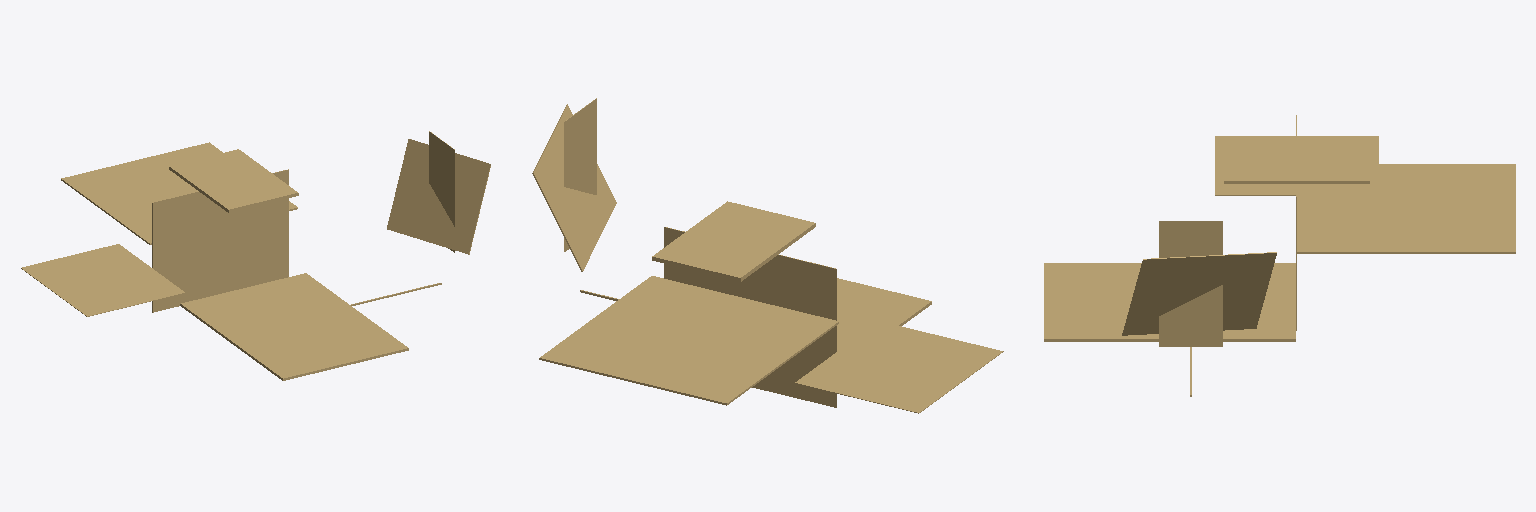
The robot description file, URDF, robot "evolved_design":
<?xml version="1.0" ?>
<robot name="evolved_design">
  <link name="base_link">
    <inertial>
      <mass value="0.001"/>
      <origin xyz="0 0 0" rpy="0 0 0"/>
      <inertia ixx="0.000001" ixy="0" ixz="0" iyy="0.000001" iyz="0" izz="0.000001"/>
    </inertial>
  </link>
  <link name="link_comp_0">
    <inertial>
      <mass value="2.442573"/>
      <origin xyz="0 0 0" rpy="0 0 0"/>
      <inertia ixx="0.108428585" ixy="0" ixz="0" iyy="0.054369815" iyz="0" izz="0.162761465"/>
    </inertial>
    <visual>
      <origin xyz="0 0 0" rpy="0 0 0"/>
      <geometry>
        <box size="0.516740 0.729796 0.009525"/>
      </geometry>
      <material name="link_comp_0_material">
        <color rgba="0.8 0.7 0.5 1"/>
      </material>
    </visual>
    <collision>
      <origin xyz="0 0 0" rpy="0 0 0"/>
      <geometry>
        <box size="0.516740 0.729796 0.009525"/>
      </geometry>
    </collision>
  </link>
  <joint name="base_link_to_link_comp_0" type="fixed">
    <parent link="base_link"/>
    <child link="link_comp_0"/>
    <origin xyz="0.258370 0.364898 0.004762" rpy="0.000000 0.000000 0.000000"/>
  </joint>
  <link name="link_comp_1">
    <inertial>
      <mass value="0.010000"/>
      <origin xyz="0 0 0" rpy="0 0 0"/>
      <inertia ixx="0.000000052" ixy="0" ixz="0" iyy="0.000119843" iyz="0" izz="0.000119828"/>
    </inertial>
    <visual>
      <origin xyz="0 0 0" rpy="0 0 0"/>
      <geometry>
        <box size="0.379171 0.004750 0.006350"/>
      </geometry>
      <material name="link_comp_1_material">
        <color rgba="0.8 0.7 0.5 1"/>
      </material>
    </visual>
    <collision>
      <origin xyz="0 0 0" rpy="0 0 0"/>
      <geometry>
        <box size="0.379171 0.004750 0.006350"/>
      </geometry>
    </collision>
  </link>
  <joint name="base_link_to_link_comp_1" type="fixed">
    <parent link="base_link"/>
    <child link="link_comp_1"/>
    <origin xyz="0.706825 0.424635 0.003175" rpy="0.000000 0.000000 0.000000"/>
  </joint>
  <link name="link_comp_2">
    <inertial>
      <mass value="0.521573"/>
      <origin xyz="0 0 0" rpy="0 0 0"/>
      <inertia ixx="0.008094898" ixy="0" ixz="0" iyy="0.021715280" iyz="0" izz="0.013621258"/>
    </inertial>
    <visual>
      <origin xyz="0 0 0" rpy="0 0 0"/>
      <geometry>
        <box size="0.559803 0.003175 0.431546"/>
      </geometry>
      <material name="link_comp_2_material">
        <color rgba="0.8 0.7 0.5 1"/>
      </material>
    </visual>
    <collision>
      <origin xyz="0 0 0" rpy="0 0 0"/>
      <geometry>
        <box size="0.559803 0.003175 0.431546"/>
      </geometry>
    </collision>
  </link>
  <joint name="base_link_to_link_comp_2" type="fixed">
    <parent link="base_link"/>
    <child link="link_comp_2"/>
    <origin xyz="0.166134 0.731884 0.215773" rpy="0.000000 0.000000 0.000000"/>
  </joint>
  <link name="link_comp_3">
    <inertial>
      <mass value="1.053972"/>
      <origin xyz="0 0 0" rpy="0 0 0"/>
      <inertia ixx="0.015850476" ixy="0" ixz="0" iyy="0.007269775" iyz="0" izz="0.023091918"/>
    </inertial>
    <visual>
      <origin xyz="0 0 0" rpy="0 0 0"/>
      <geometry>
        <box size="0.287417 0.424623 0.012700"/>
      </geometry>
      <material name="link_comp_3_material">
        <color rgba="0.8 0.7 0.5 1"/>
      </material>
    </visual>
    <collision>
      <origin xyz="0 0 0" rpy="0 0 0"/>
      <geometry>
        <box size="0.287417 0.424623 0.012700"/>
      </geometry>
    </collision>
  </link>
  <joint name="base_link_to_link_comp_3" type="fixed">
    <parent link="base_link"/>
    <child link="link_comp_3"/>
    <origin xyz="0.220309 0.732444 0.438396" rpy="0.000000 0.000000 0.000000"/>
  </joint>
  <link name="link_comp_4">
    <inertial>
      <mass value="0.102988"/>
      <origin xyz="0 0 0" rpy="0 0 0"/>
      <inertia ixx="0.001696381" ixy="0" ixz="0" iyy="0.001405224" iyz="0" izz="0.000291228"/>
    </inertial>
    <visual>
      <origin xyz="0 0 0" rpy="0 0 0"/>
      <geometry>
        <box size="0.002032 0.184199 0.404636"/>
      </geometry>
      <material name="link_comp_4_material">
        <color rgba="0.8 0.7 0.5 1"/>
      </material>
    </visual>
    <collision>
      <origin xyz="0 0 0" rpy="0 0 0"/>
      <geometry>
        <box size="0.002032 0.184199 0.404636"/>
      </geometry>
    </collision>
  </link>
  <joint name="base_link_to_link_comp_4" type="fixed">
    <parent link="base_link"/>
    <child link="link_comp_4"/>
    <origin xyz="0.897927 0.424789 0.362100" rpy="0.000000 0.000000 0.000000"/>
  </joint>
  <link name="link_comp_5">
    <inertial>
      <mass value="1.665711"/>
      <origin xyz="0 0 0" rpy="0 0 0"/>
      <inertia ixx="0.055591242" ixy="0" ixz="0" iyy="0.051588807" iyz="0" izz="0.107168856"/>
    </inertial>
    <visual>
      <origin xyz="0 0 0" rpy="0 0 0"/>
      <geometry>
        <box size="0.609600 0.632808 0.006350"/>
      </geometry>
      <material name="link_comp_5_material">
        <color rgba="0.8 0.7 0.5 1"/>
      </material>
    </visual>
    <collision>
      <origin xyz="0 0 0" rpy="0 0 0"/>
      <geometry>
        <box size="0.609600 0.632808 0.006350"/>
      </geometry>
    </collision>
  </link>
  <joint name="base_link_to_link_comp_5" type="fixed">
    <parent link="base_link"/>
    <child link="link_comp_5"/>
    <origin xyz="0.181850 1.050376 0.268720" rpy="0.000000 0.000000 0.000000"/>
  </joint>
  <link name="link_comp_6">
    <inertial>
      <mass value="0.248666"/>
      <origin xyz="0 0 0" rpy="0 0 0"/>
      <inertia ixx="0.004680370" ixy="0" ixz="0" iyy="0.003380888" iyz="0" izz="0.008061107"/>
    </inertial>
    <visual>
      <origin xyz="0 0 0" rpy="0 0 0"/>
      <geometry>
        <box size="0.403918 0.475247 0.001905"/>
      </geometry>
      <material name="link_comp_6_material">
        <color rgba="0.8 0.7 0.5 1"/>
      </material>
    </visual>
    <collision>
      <origin xyz="0 0 0" rpy="0 0 0"/>
      <geometry>
        <box size="0.403918 0.475247 0.001905"/>
      </geometry>
    </collision>
  </link>
  <joint name="base_link_to_link_comp_6" type="fixed">
    <parent link="base_link"/>
    <child link="link_comp_6"/>
    <origin xyz="-0.316227 0.732447 0.173361" rpy="0.000000 0.000000 0.000000"/>
  </joint>
  <link name="link_comp_7">
    <inertial>
      <mass value="0.291925"/>
      <origin xyz="0 0 0" rpy="0 0 0"/>
      <inertia ixx="0.006711573" ixy="0" ixz="0" iyy="0.002691589" iyz="0" izz="0.004020474"/>
    </inertial>
    <visual>
      <origin xyz="0 0 0" rpy="0 0 0"/>
      <geometry>
        <box size="0.003175 0.406518 0.332613"/>
      </geometry>
      <material name="link_comp_7_material">
        <color rgba="0.8 0.7 0.5 1"/>
      </material>
    </visual>
    <collision>
      <origin xyz="0 0 0" rpy="0 0 0"/>
      <geometry>
        <box size="0.003175 0.406518 0.332613"/>
      </geometry>
    </collision>
  </link>
  <joint name="base_link_to_link_comp_7" type="fixed">
    <parent link="base_link"/>
    <child link="link_comp_7"/>
    <origin xyz="0.901031 0.450417 0.332163" rpy="-0.083462 0.424613 0.249538"/>
  </joint>
</robot>

--- Render facts (derived) ---
3 views of the same robot in one strip: view 1: azimuth 30°, elevation 25°; view 2: azimuth 150°, elevation 25°; view 3: azimuth 270°, elevation 25° (orthographic).
Robot: evolved_design — 9 links, 8 joints (8 fixed); root link base_link; default pose: every joint at zero.
Links seen in each view (by area): view 1: link_comp_0, link_comp_2, link_comp_7, link_comp_6, link_comp_5, link_comp_3, link_comp_4; view 2: link_comp_5, link_comp_6, link_comp_2, link_comp_3, link_comp_7, link_comp_0, link_comp_4; view 3: link_comp_5, link_comp_0, link_comp_7, link_comp_3, link_comp_4, link_comp_6.
Link boxes in pixels (left/top/right/bottom): link_comp_0: left=180, top=273, right=408, bottom=380; link_comp_2: left=152, top=169, right=288, bottom=312; link_comp_7: left=387, top=139, right=490, bottom=254; link_comp_6: left=21, top=244, right=184, bottom=316; link_comp_5: left=61, top=142, right=297, bottom=244; link_comp_3: left=169, top=149, right=298, bottom=212; link_comp_4: left=429, top=131, right=454, bottom=252; link_comp_5: left=539, top=276, right=838, bottom=405; link_comp_6: left=795, top=321, right=1003, bottom=413; link_comp_2: left=664, top=227, right=836, bottom=407; link_comp_3: left=652, top=201, right=815, bottom=281; link_comp_7: left=532, top=104, right=616, bottom=271; link_comp_0: left=837, top=278, right=931, bottom=351; link_comp_4: left=564, top=98, right=596, bottom=251; link_comp_5: left=1297, top=164, right=1515, bottom=253; link_comp_0: left=1044, top=263, right=1295, bottom=341; link_comp_7: left=1122, top=252, right=1276, bottom=335; link_comp_3: left=1224, top=139, right=1369, bottom=183; link_comp_4: left=1159, top=221, right=1222, bottom=346; link_comp_6: left=1215, top=136, right=1378, bottom=195.
Bounding box of the posed robot: 1.54 × 1.37 × 0.5644 m (x, y, z).
Geometry: primitives only (box / cylinder / sphere), no mesh files.